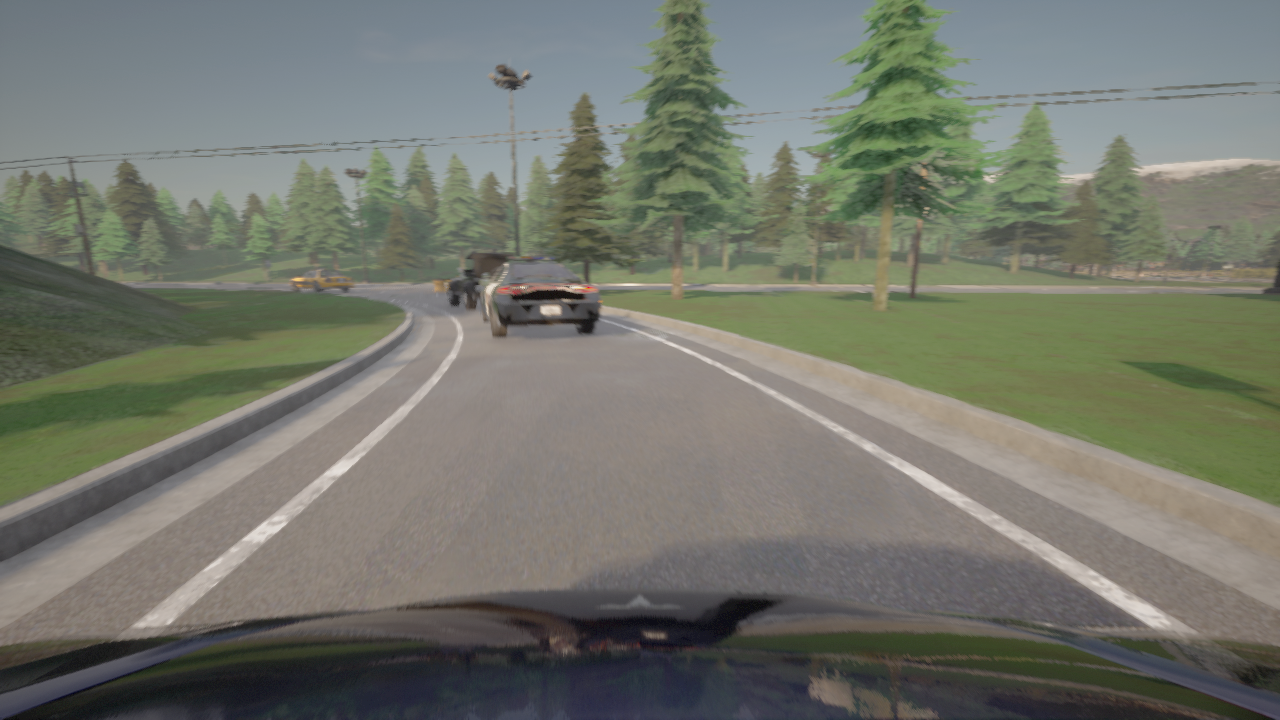cyclist: (0, 588, 1279, 719), (479, 256, 600, 337), (447, 252, 514, 309), (289, 267, 354, 292)
